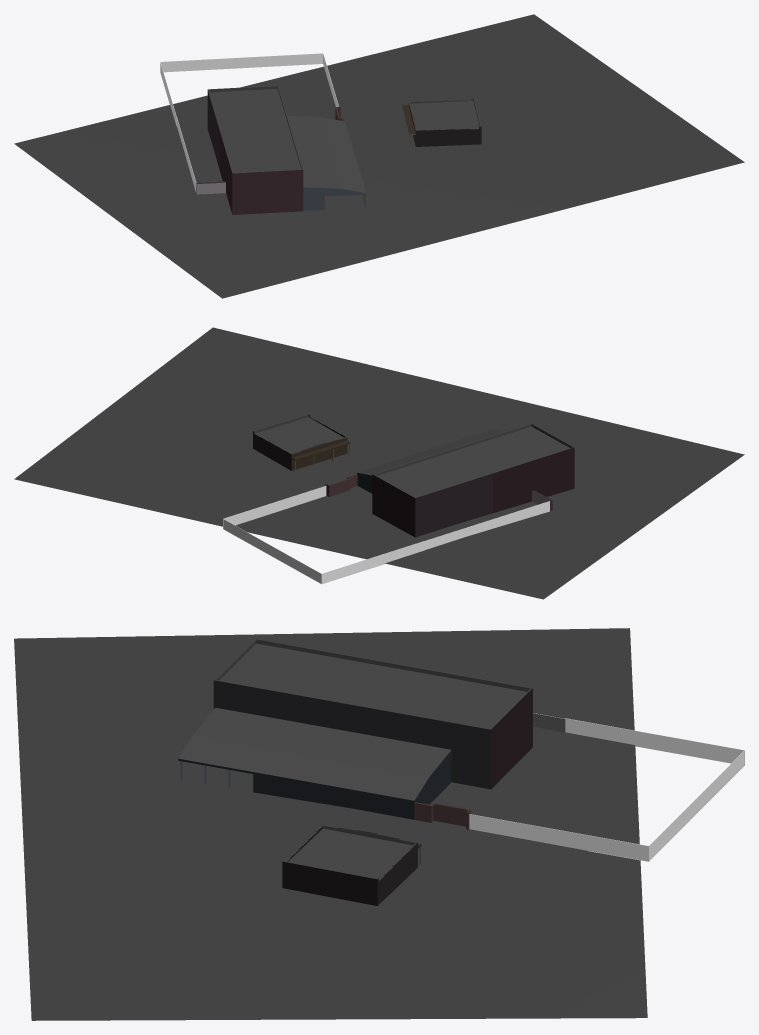
Rendered from main-adams.glb.
3 renders of one model, top to bottom at view 1: azimuth 30°, elevation 25°; view 2: azimuth 150°, elevation 25°; view 3: azimuth 270°, elevation 25°, orthographic. The views are drawn at different scales.
Parts seen in each view (by area): view 1: LOD0; view 2: LOD0; view 3: LOD0.
Part boxes in pixels (x1,y1,x2,y2): LOD0: (14, 14, 744, 298); LOD0: (14, 327, 744, 599); LOD0: (14, 628, 744, 1020).
Size of what is drawn, in the model's own units: 126 by 9.97 by 99.7.
Materials: 3 (3 with a texture image).
